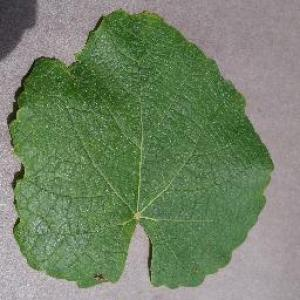Folha: (7, 7, 274, 289)
